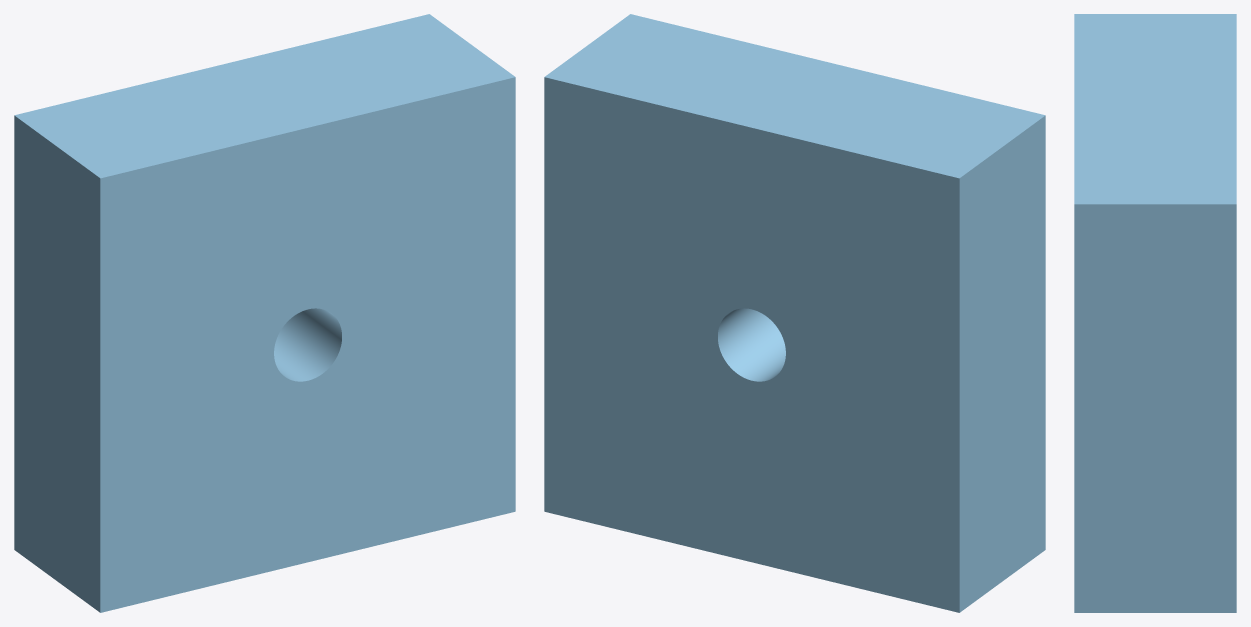
Rendered from factory_round_hole_4mm_subdiv_3x.obj.
3 renders of one model, left to right at view 1: azimuth 30°, elevation 25°; view 2: azimuth 150°, elevation 25°; view 3: azimuth 270°, elevation 25°, orthographic. The views are drawn at different scales.
Visible parts, largest first — view 1: mesh1, mesh5, mesh4, mesh0; view 2: mesh2, mesh5, mesh4, mesh0; view 3: mesh3, mesh4.
Boxes of the visible parts, x1=… form: mesh1: x1=100, y1=77, x2=515, y2=612; mesh5: x1=14, y1=115, x2=100, y2=612; mesh4: x1=15, y1=14, x2=515, y2=178; mesh0: x1=274, y1=308, x2=341, y2=381; mesh2: x1=544, y1=77, x2=959, y2=612; mesh5: x1=959, y1=115, x2=1045, y2=612; mesh4: x1=544, y1=14, x2=1044, y2=178; mesh0: x1=718, y1=308, x2=785, y2=381; mesh3: x1=1074, y1=204, x2=1236, y2=612; mesh4: x1=1074, y1=14, x2=1236, y2=204.
Size of the model in its own units: 0.025 by 0.025 by 0.00899.
